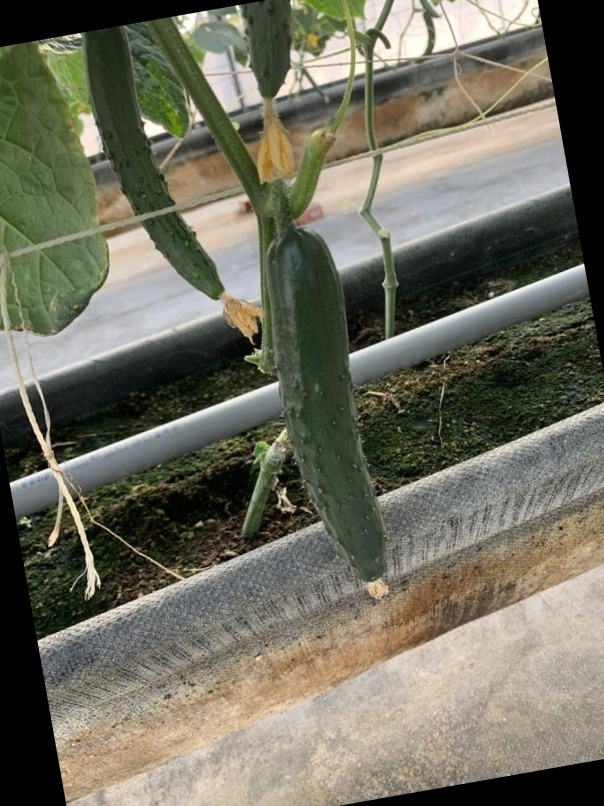mature: (258, 230, 393, 584), (76, 23, 228, 299)
